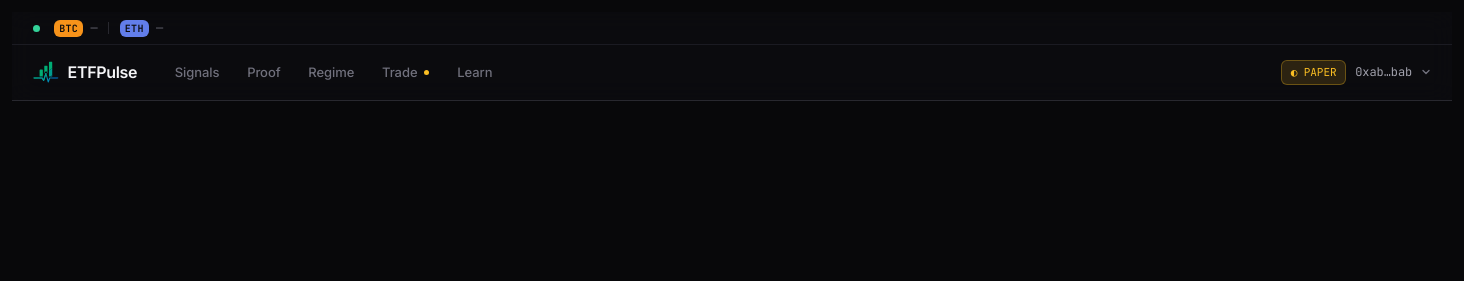
Test: AccountChip › opens a dropdown showing the full address + a Disconnect action
Expected: the button "Disconnect" is not shown
Click the button with aria-label "Account menu" at (1356, 72), box [1281, 60, 1431, 85]
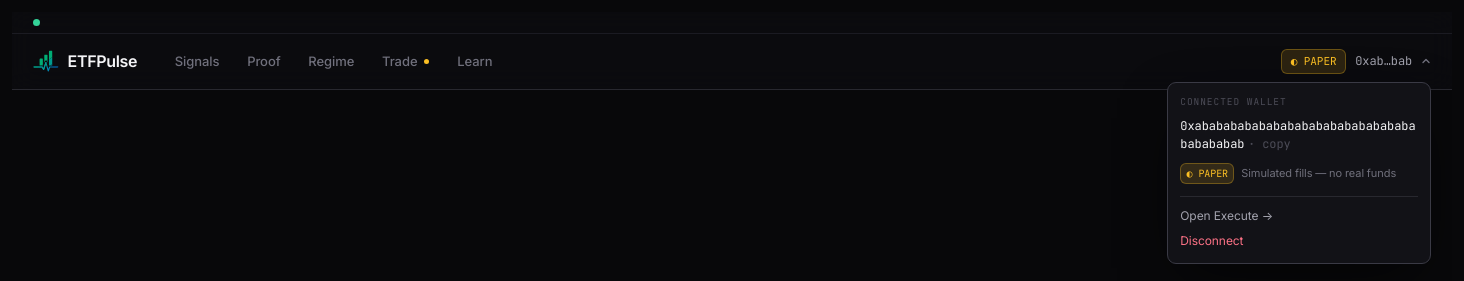
Expected: the button "Disconnect" is shown, [1180, 232, 1418, 250]
